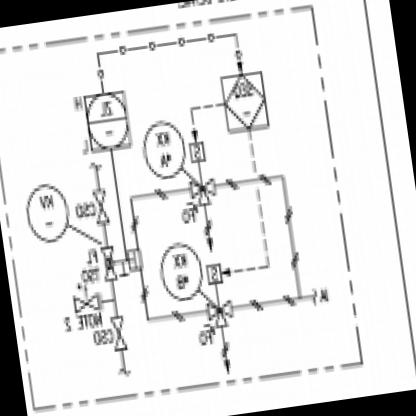LMI: (20, 170, 74, 250), (152, 235, 206, 304), (136, 114, 188, 182)
TAG: (81, 86, 133, 154)
